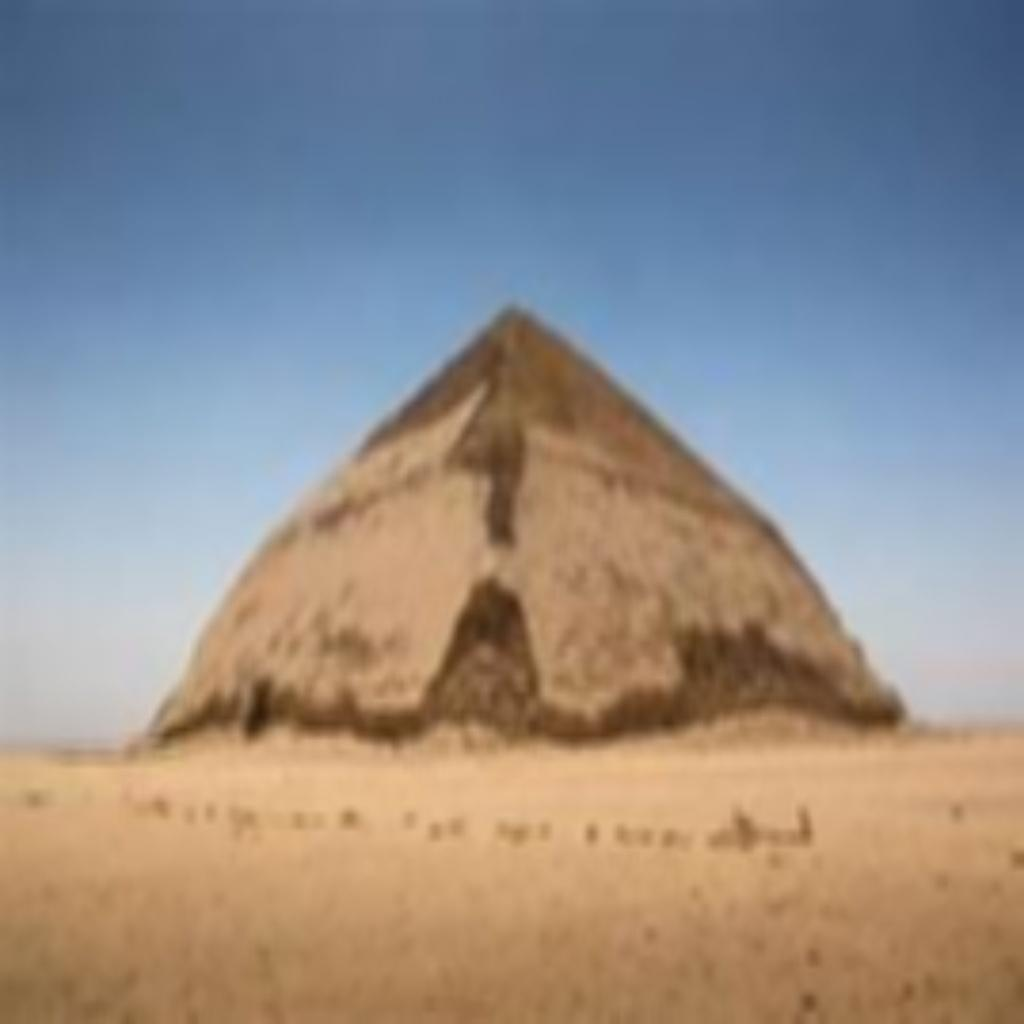Bent Pyramid of King Sneferu: (130, 292, 910, 750)
